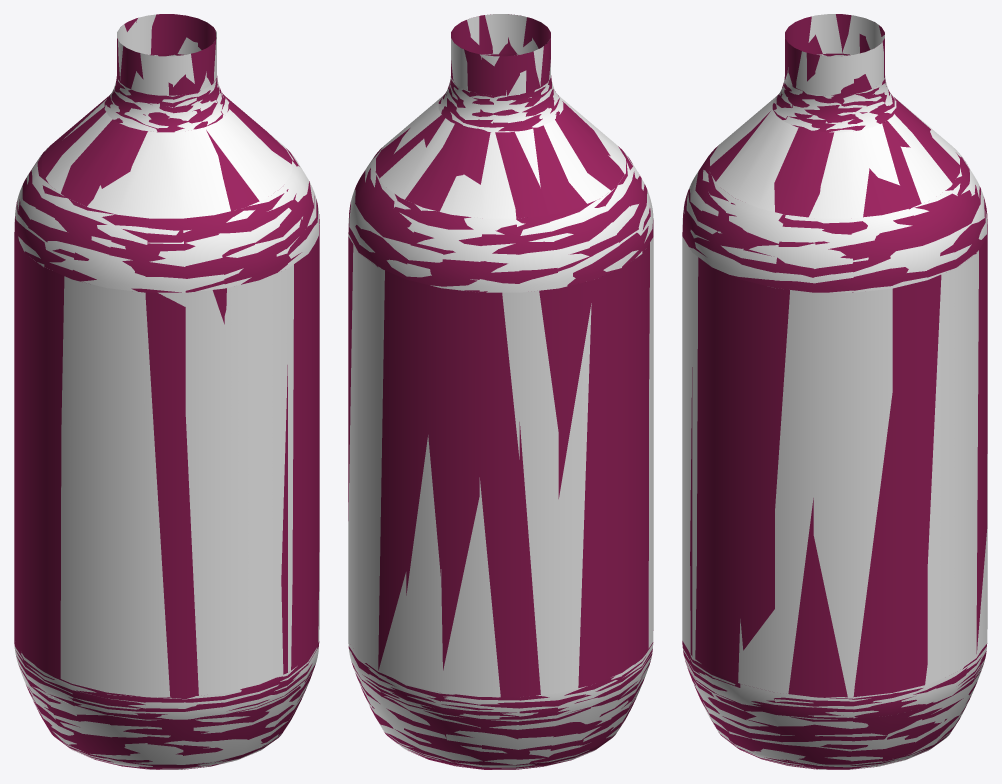
Rendered from original-2.obj.
3 views of the same model, side by side, from view 1: azimuth 30°, elevation 25°; view 2: azimuth 150°, elevation 25°; view 3: azimuth 270°, elevation 25° (orthographic).
Visible parts, largest first — view 1: #ID249; view 2: #ID249; view 3: #ID249.
Boxes of the visible parts, bbox=[...] form: #ID249: bbox=[14, 14, 319, 769]; #ID249: bbox=[348, 14, 653, 769]; #ID249: bbox=[682, 14, 987, 769].
Size of the model in its own units: 0.5428 by 1.35 by 0.5428.
Materials: 2 (2 with a texture image).
